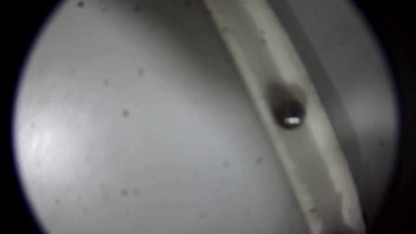gangzhu: (273, 98, 306, 129)
